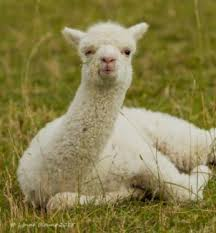alpaca: (15, 21, 216, 213)
